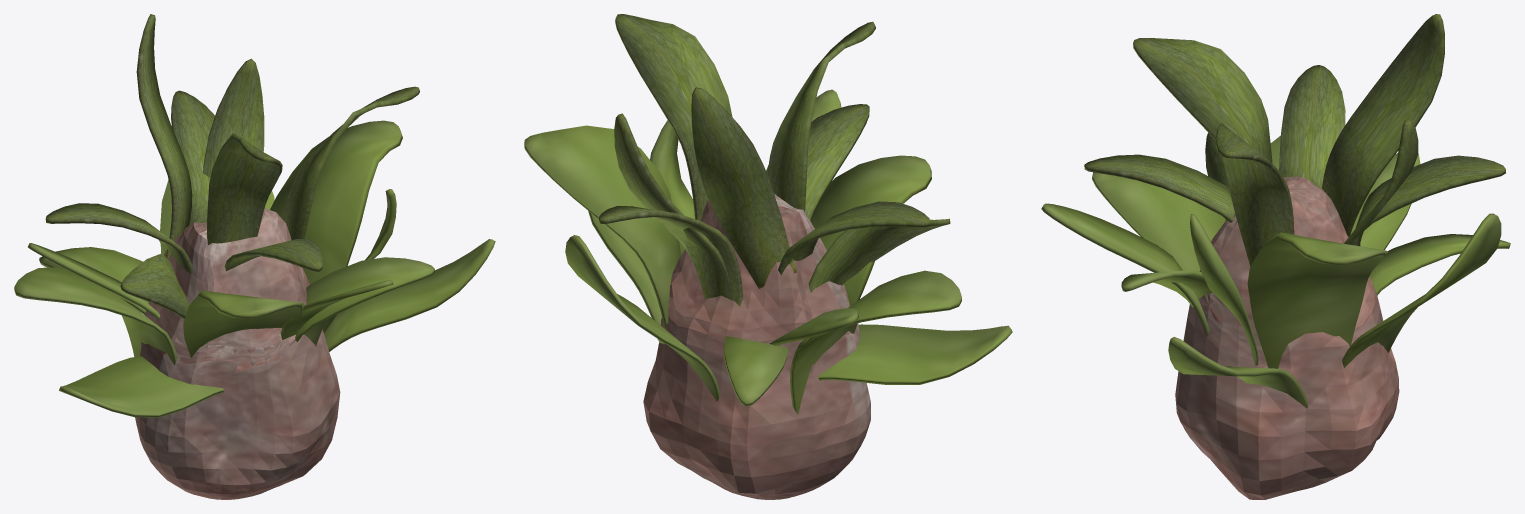
File: crown.dae
The picture shows the model from 3 angles, left to right: view 1: azimuth 30°, elevation 25°; view 2: azimuth 150°, elevation 25°; view 3: azimuth 270°, elevation 25°; orthographic projection. The views are drawn at different scales.
Parts seen in each view (by area): view 1: Sphere.001, calyx4_001.001, calyx4.001, calyx2.003, calyx2.002, calyx3.003, calyx2.001, calyx4.003, calyx3_001.003, calyx2.004, calyx3_002, calyx4_001 (+8 smaller); view 2: Sphere.001, calyx2.001, calyx4_001.001, calyx4_001, calyx2.003, calyx3.003, calyx4.003, calyx4.001, calyx3_002, calyx3_001.001, calyx4.004, calyx2_001.001 (+7 smaller); view 3: Sphere.001, calyx4_001.001, calyx2.001, calyx4.001, calyx3.001, calyx4_001, calyx4.003, calyx3_001.001, calyx3_002, calyx1.003, calyx2_001.001, calyx3.004 (+6 smaller).
Boxes of the visible parts, x1,y1,x2,y2 form: Sphere.001: [135, 208, 340, 499]; calyx4_001.001: [270, 120, 402, 284]; calyx4.001: [207, 133, 282, 245]; calyx2.003: [59, 356, 223, 417]; calyx2.002: [324, 239, 495, 351]; calyx3.003: [14, 267, 177, 365]; calyx2.001: [136, 14, 192, 259]; calyx4.003: [183, 290, 304, 357]; calyx3_001.003: [295, 257, 434, 341]; calyx2.004: [203, 58, 264, 177]; calyx3_002: [171, 90, 214, 225]; calyx4_001: [283, 86, 419, 240]; Sphere.001: [643, 194, 870, 499]; calyx2.001: [691, 87, 796, 288]; calyx4_001.001: [524, 125, 680, 328]; calyx4_001: [615, 14, 732, 220]; calyx2.003: [818, 324, 1012, 384]; calyx3.003: [790, 270, 961, 414]; calyx4.003: [811, 155, 931, 305]; calyx4.001: [767, 21, 875, 212]; calyx3_002: [599, 206, 742, 306]; calyx3_001.001: [805, 104, 869, 221]; calyx4.004: [808, 218, 950, 292]; calyx2_001.001: [565, 235, 720, 401]; Sphere.001: [1175, 176, 1399, 499]; calyx4_001.001: [1247, 232, 1387, 368]; calyx2.001: [1322, 14, 1444, 236]; calyx4.001: [1133, 38, 1272, 162]; calyx3.001: [1279, 65, 1345, 188]; calyx4_001: [1216, 122, 1294, 266]; calyx4.003: [1092, 172, 1225, 271]; calyx3_001.001: [1084, 154, 1234, 222]; calyx3_002: [1350, 155, 1505, 245]; calyx1.003: [1041, 203, 1209, 336]; calyx2_001.001: [1342, 213, 1501, 367]; calyx3.004: [1369, 234, 1510, 295].
Bounding box in the file's own units: 0.1503 × 0.1364 × 0.1478.
3 materials, 3 textured.
